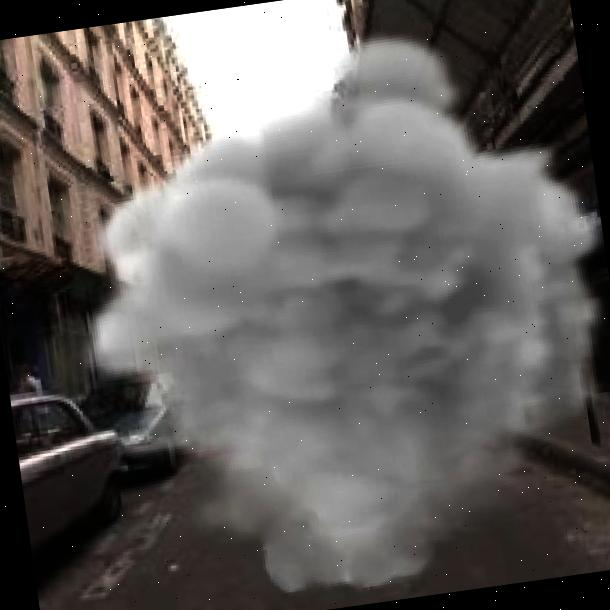smoke: (38, 0, 610, 610)
